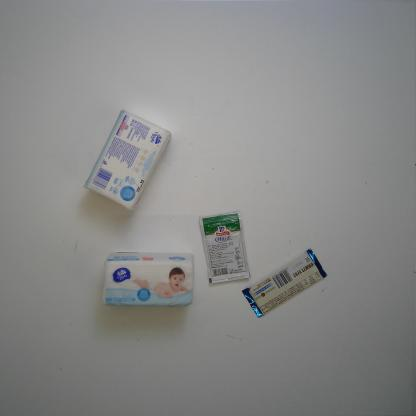Chocolate: (242, 248, 327, 319)
Seasoner: (198, 210, 250, 284)
Tissue: (83, 109, 172, 211), (102, 251, 194, 308)
